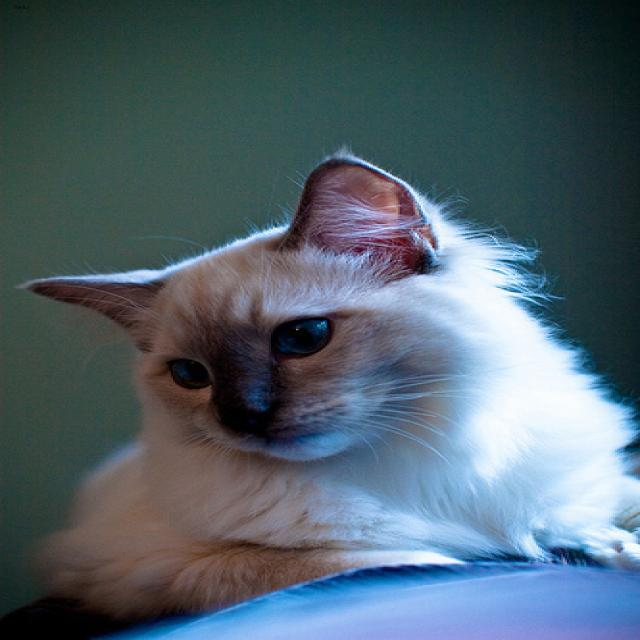Ragdoll: (29, 148, 485, 465)
